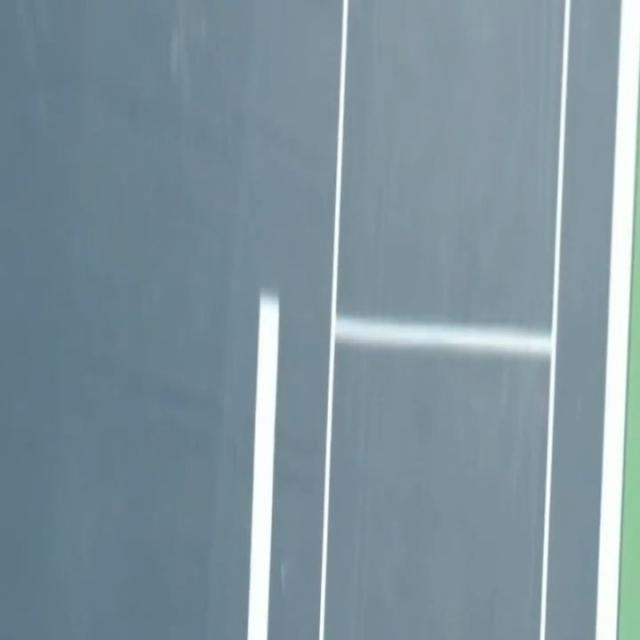center: (247, 294, 279, 639)
right: (596, 0, 639, 639)
